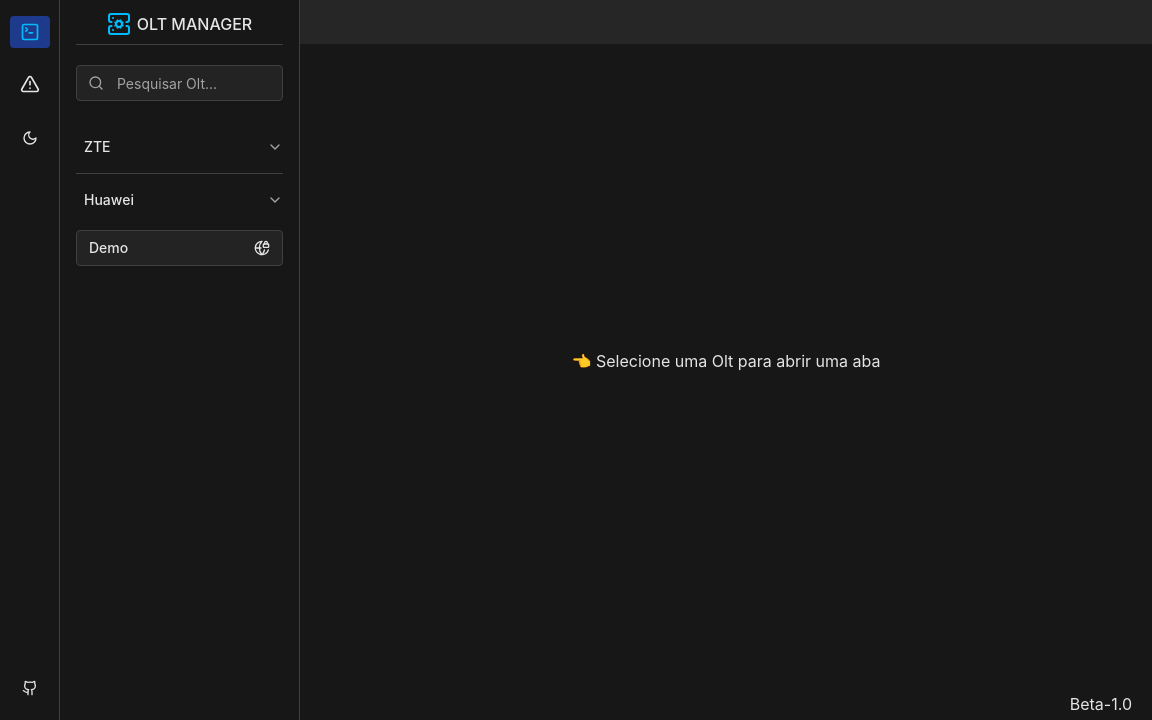
Test: ABA LATERAL TESTE › Deve trocar para Incidents ao clicar no botão de incidents
The width and height of the screenshot is (1152, 720).
Click the button named "btn-Incidents" at (30,84), box [10,68,50,100]
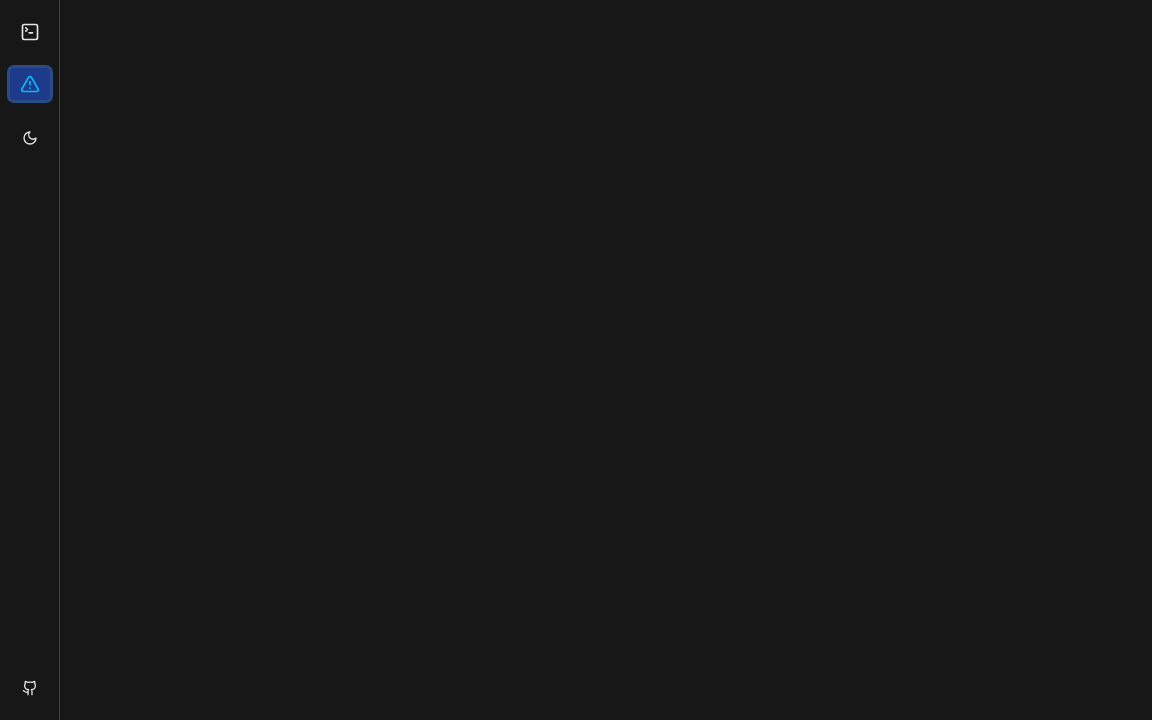
Expected: the field labelled "screen-olt" is gone
